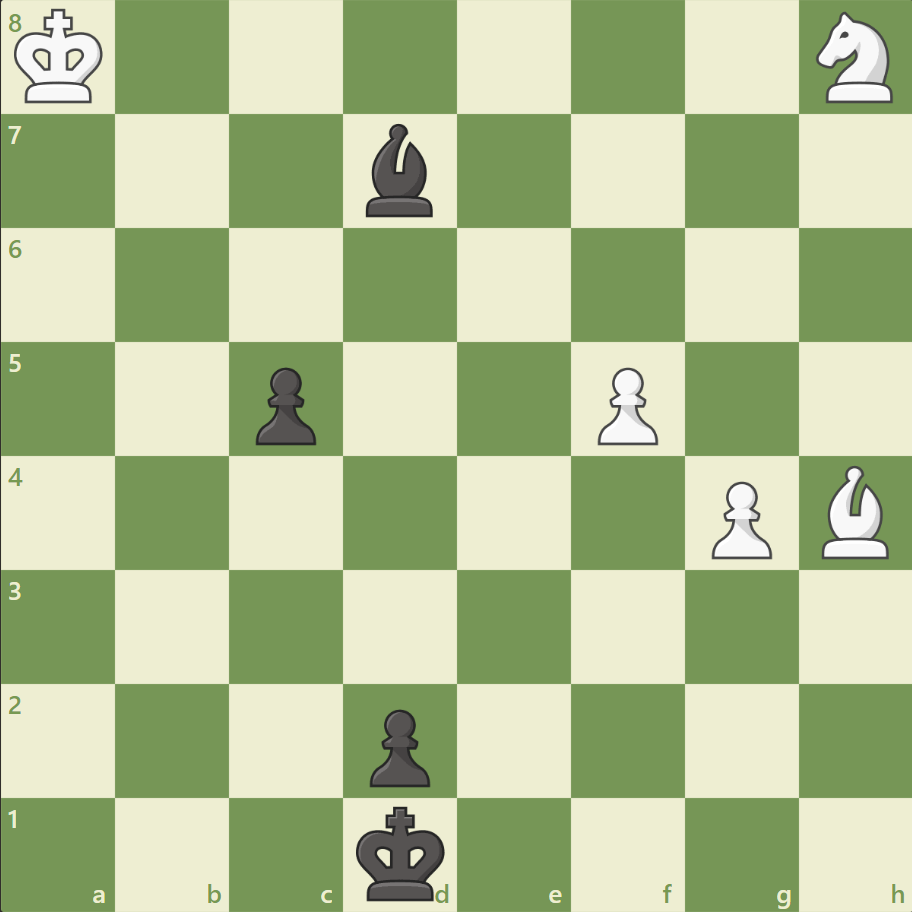B: (812, 460, 896, 563)
K: (11, 4, 111, 112)
N: (806, 7, 903, 110)
P: (701, 473, 776, 564), (588, 359, 662, 450)
b: (358, 120, 442, 222)
k: (351, 798, 451, 906)
p: (247, 359, 322, 450), (361, 700, 435, 791)
